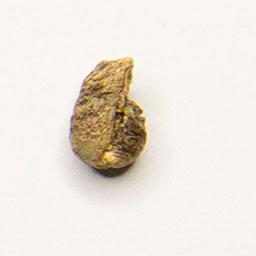defect: (63, 49, 154, 178)
